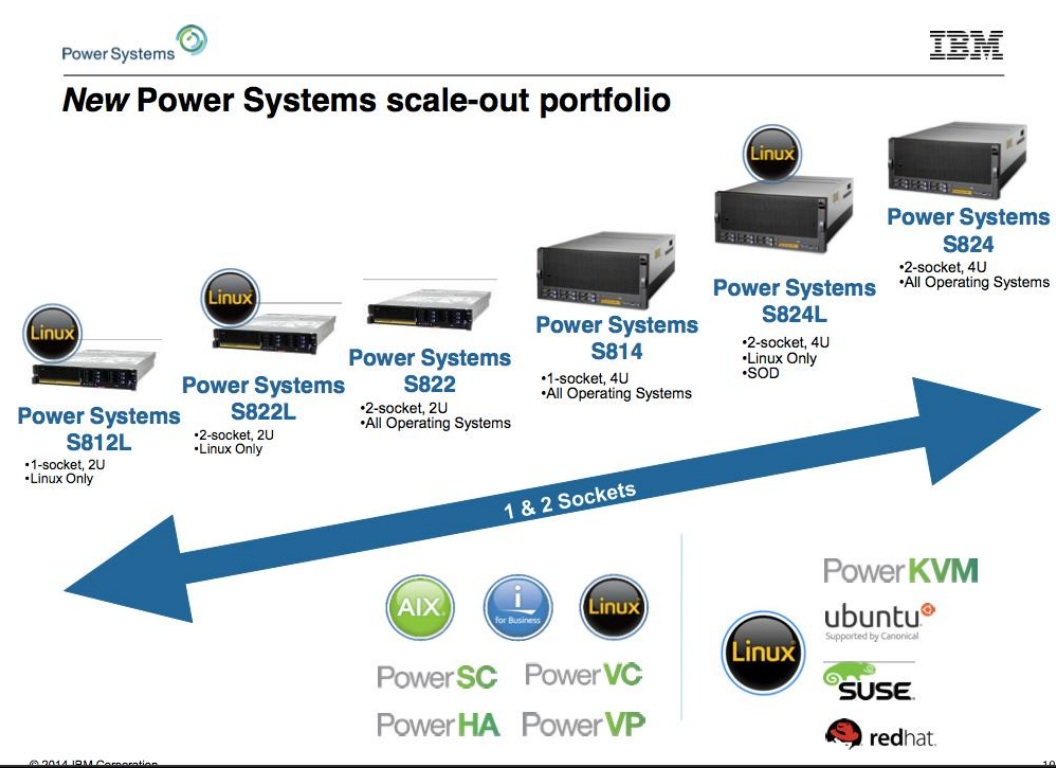ibm-server: (518, 223, 691, 315), (881, 111, 1037, 202), (710, 171, 866, 257), (20, 342, 174, 400), (360, 280, 499, 336), (197, 307, 341, 360)
